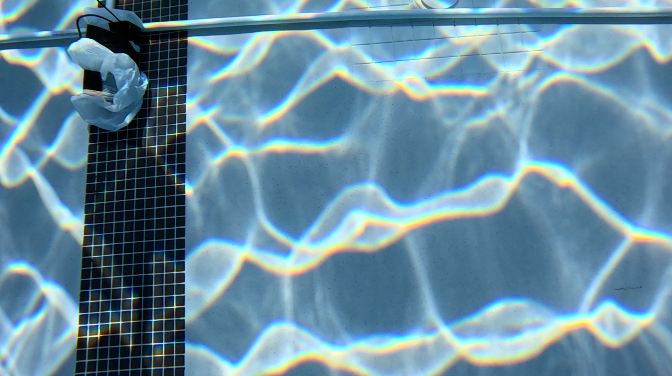sandbag: (77, 4, 141, 124)
